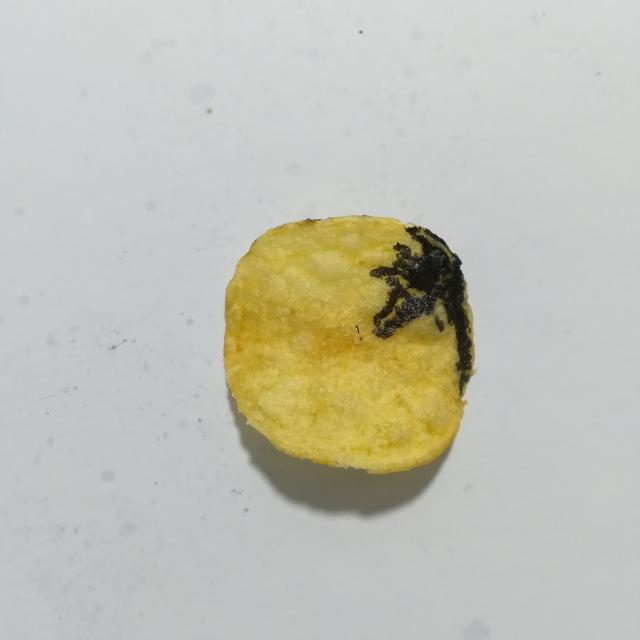chip: (224, 216, 474, 473)
damaged: (369, 225, 474, 396), (434, 314, 444, 332), (355, 325, 359, 335), (360, 338, 362, 339)
